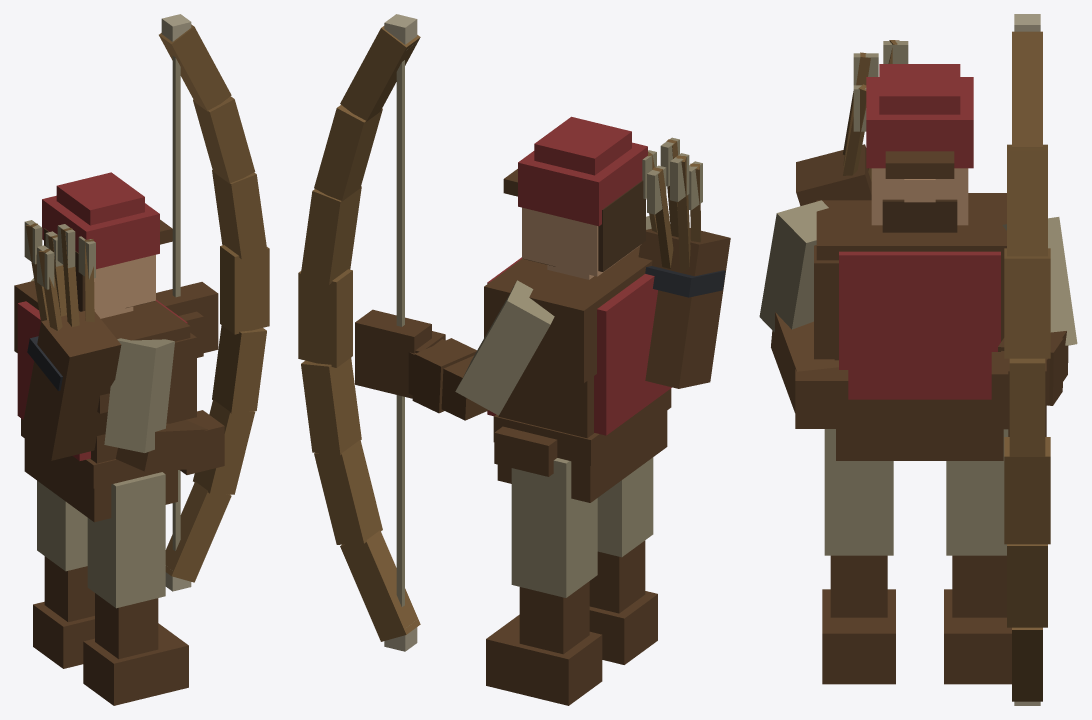
Rendered from bowman.glb.
3 views of the same model, side by side, from view 1: azimuth 30°, elevation 25°; view 2: azimuth 150°, elevation 25°; view 3: azimuth 270°, elevation 25° (orthographic). The views are drawn at different scales.
Parts seen in each view (by area): view 1: Cube.014, Cube.003, Cube.038, Cube.005, Cube.031, Cube.044, Cube.043, Cube.041, Cube.045, Cube.006, Cube, Cube.009 (+29 smaller); view 2: Cube, Cube.009, Cube.014, Cube.011, Cube.002, Cube.034, Cube.031, Cube.044, Cube.051, Cube.042, Cube.043, Cube.008 (+23 smaller); view 3: Cube.010, Cube.009, Cube.003, Cube.006, Cube.031, Cube, Cube.038, Cube.005, Cube.045, Cube.002, Cube.046, Cube.043 (+23 smaller).
Part boxes in pixels (x1=…): Cube.014: x1=23, y1=311, x2=121, y2=460; Cube.003: x1=87, y1=472, x2=165, y2=608; Cube.038: x1=104, y1=338, x2=174, y2=452; Cube.005: x1=83, y1=623, x2=188, y2=705; Cube.031: x1=42, y1=195, x2=159, y2=269; Cube.044: x1=220, y1=245, x2=269, y2=334; Cube.043: x1=212, y1=325, x2=266, y2=413; Cube.041: x1=165, y1=481, x2=231, y2=582; Cube.045: x1=212, y1=170, x2=266, y2=259; Cube.006: x1=24, y1=438, x2=177, y2=522; Cube: x1=37, y1=480, x2=87, y2=571; Cube.009: x1=14, y1=281, x2=190, y2=413; Cube: x1=511, y1=458, x2=597, y2=597; Cube.009: x1=484, y1=246, x2=652, y2=383; Cube.014: x1=638, y1=228, x2=730, y2=388; Cube.011: x1=594, y1=274, x2=671, y2=435; Cube.002: x1=486, y1=614, x2=602, y2=705; Cube.034: x1=455, y1=280, x2=554, y2=415; Cube.031: x1=518, y1=142, x2=647, y2=226; Cube.044: x1=298, y1=269, x2=352, y2=367; Cube.051: x1=355, y1=309, x2=431, y2=398; Cube.042: x1=314, y1=439, x2=382, y2=544; Cube.043: x1=301, y1=357, x2=361, y2=455; Cube.008: x1=498, y1=369, x2=593, y2=438; Cube.010: x1=839, y1=251, x2=1000, y2=399; Cube.009: x1=816, y1=193, x2=1006, y2=325; Cube.003: x1=824, y1=429, x2=893, y2=555; Cube.006: x1=836, y1=420, x2=1003, y2=460; Cube.031: x1=866, y1=77, x2=973, y2=168; Cube: x1=946, y1=429, x2=1008, y2=555; Cube.038: x1=759, y1=200, x2=828, y2=332; Cube.005: x1=822, y1=589, x2=895, y2=684; Cube.045: x1=1004, y1=248, x2=1050, y2=358; Cube.002: x1=944, y1=589, x2=1011, y2=684; Cube.046: x1=1007, y1=144, x2=1047, y2=256; Cube.043: x1=1004, y1=437, x2=1050, y2=544.
Size of the model in its own units: 12.97 by 25.05 by 10.2.
